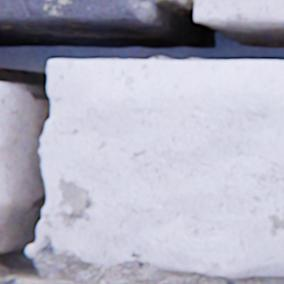brick: (0, 0, 156, 23), (195, 0, 283, 22)
broken_brick: (28, 59, 283, 276), (0, 83, 9, 208)
crack: (0, 0, 283, 282)
